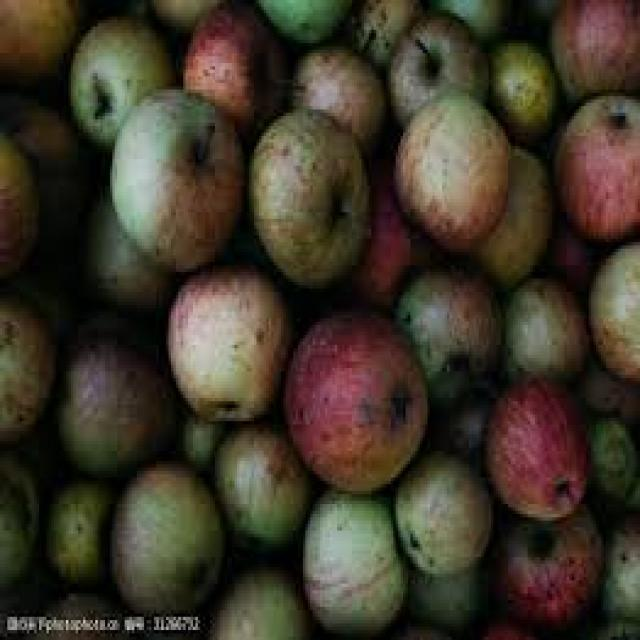organic waste: (0, 0, 638, 637), (284, 305, 428, 491), (108, 83, 245, 269), (247, 103, 369, 285), (166, 262, 288, 421), (391, 90, 508, 248), (107, 454, 220, 610), (300, 488, 406, 636), (54, 335, 168, 471), (488, 498, 598, 634), (0, 86, 90, 248), (547, 87, 638, 246), (481, 378, 584, 517), (66, 13, 169, 143), (393, 262, 496, 391), (181, 0, 286, 123), (322, 156, 410, 302), (393, 448, 491, 574), (212, 418, 306, 547), (464, 143, 547, 285), (386, 7, 484, 122), (286, 40, 386, 152), (86, 179, 166, 305), (498, 275, 586, 385), (544, 0, 638, 96), (0, 282, 54, 441), (203, 557, 310, 637), (586, 236, 638, 382), (44, 474, 110, 587), (484, 36, 554, 142), (0, 0, 78, 80), (566, 348, 638, 428), (0, 441, 39, 587), (0, 110, 34, 276), (406, 557, 488, 624), (31, 580, 124, 637), (584, 401, 637, 501), (20, 249, 76, 335), (542, 209, 598, 292), (598, 507, 638, 617), (349, 0, 420, 56), (254, 0, 349, 40), (425, 388, 493, 441), (425, 0, 503, 40), (176, 404, 222, 468), (76, 308, 146, 348), (401, 610, 462, 637), (152, 0, 222, 23), (588, 607, 638, 637)
